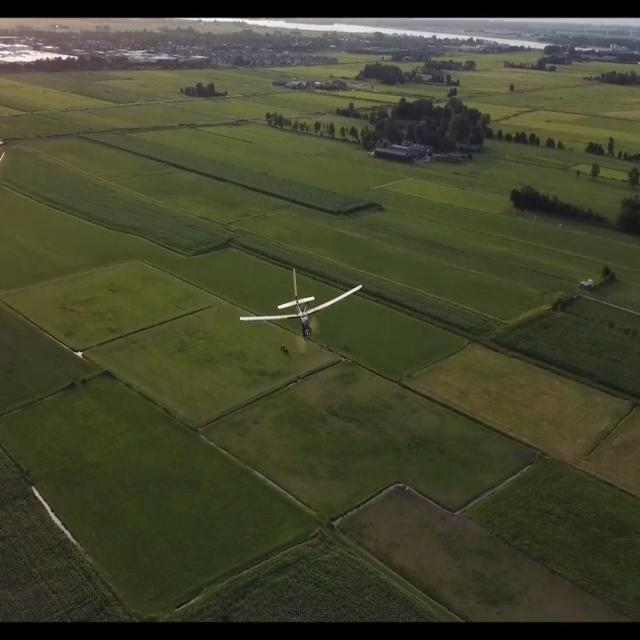iha: (270, 288, 330, 317)
